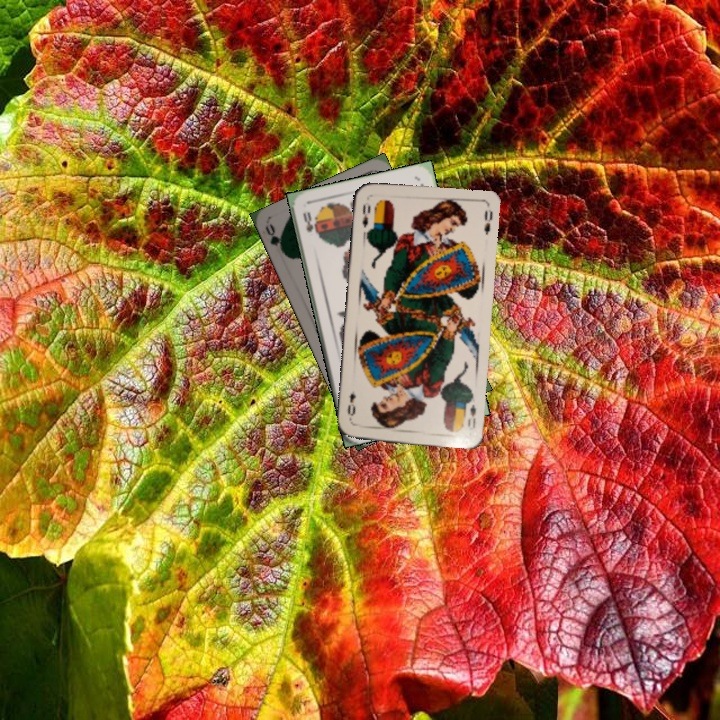EO: (464, 401, 479, 433), (358, 200, 373, 230)
GO: (261, 220, 289, 258)
SO: (299, 208, 319, 237)
